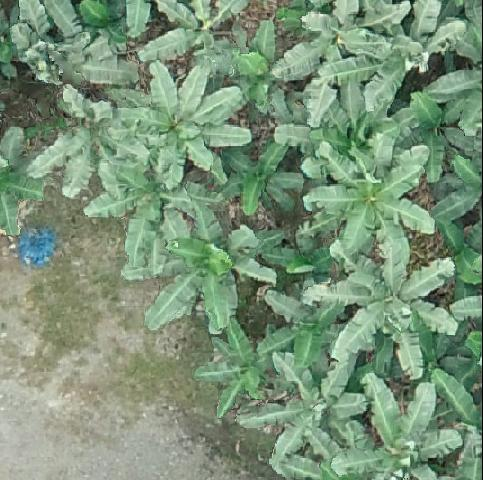Banana-plant: (311, 241, 455, 376), (143, 210, 274, 340), (321, 2, 483, 99), (270, 1, 397, 118), (128, 65, 249, 185), (238, 348, 359, 465), (302, 147, 429, 257), (336, 372, 456, 480), (36, 85, 143, 204), (278, 85, 413, 173), (97, 169, 218, 255), (148, 0, 256, 75), (204, 316, 287, 401), (398, 89, 477, 177), (260, 280, 347, 359), (226, 146, 308, 221)
